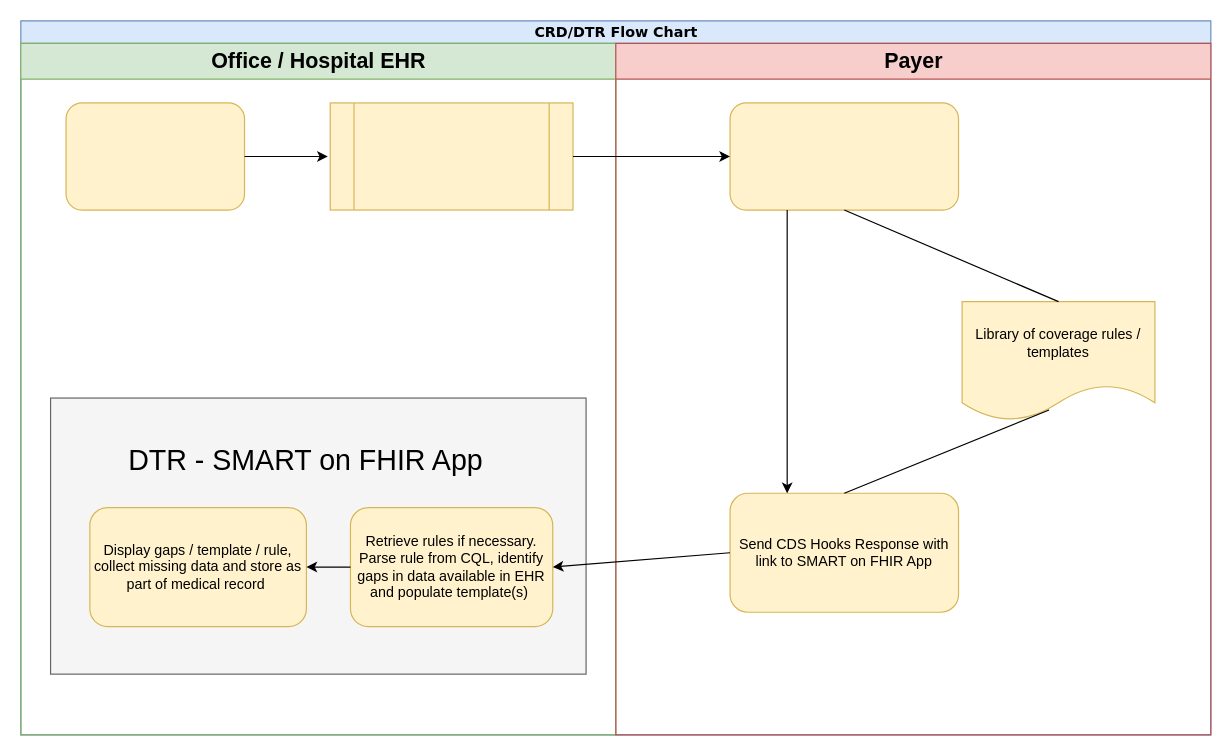
The diagram is 1232 pixels wide and 756 high, and some of its shapes have lost their labels. Here are the shapes that lost their labels. From the top down, the centre of each, then its label:
point (155, 156): DME Ordered "order-review" hook triggers query
point (451, 156): Invokes service & sends pre-fetch FHIR data including order information
point (844, 156): CDS Service searches repository leveraging FHIR data
